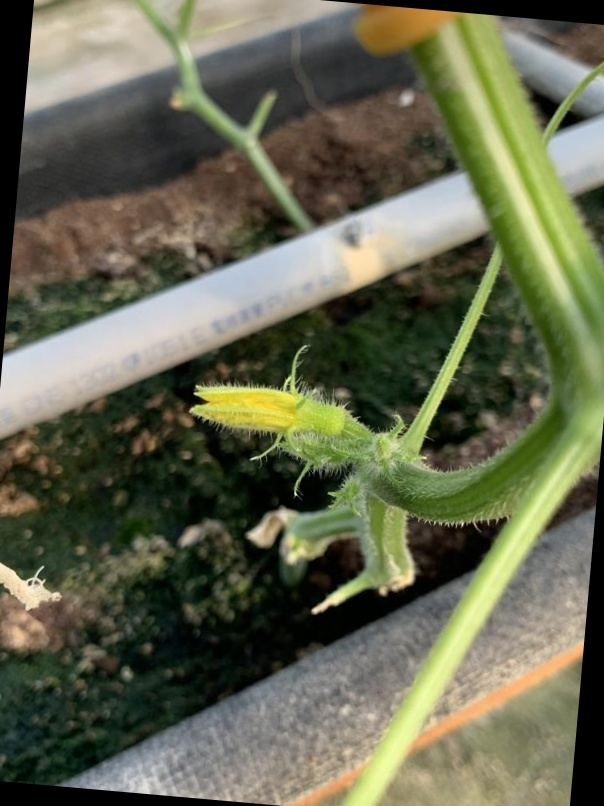bud: (190, 378, 373, 461)
